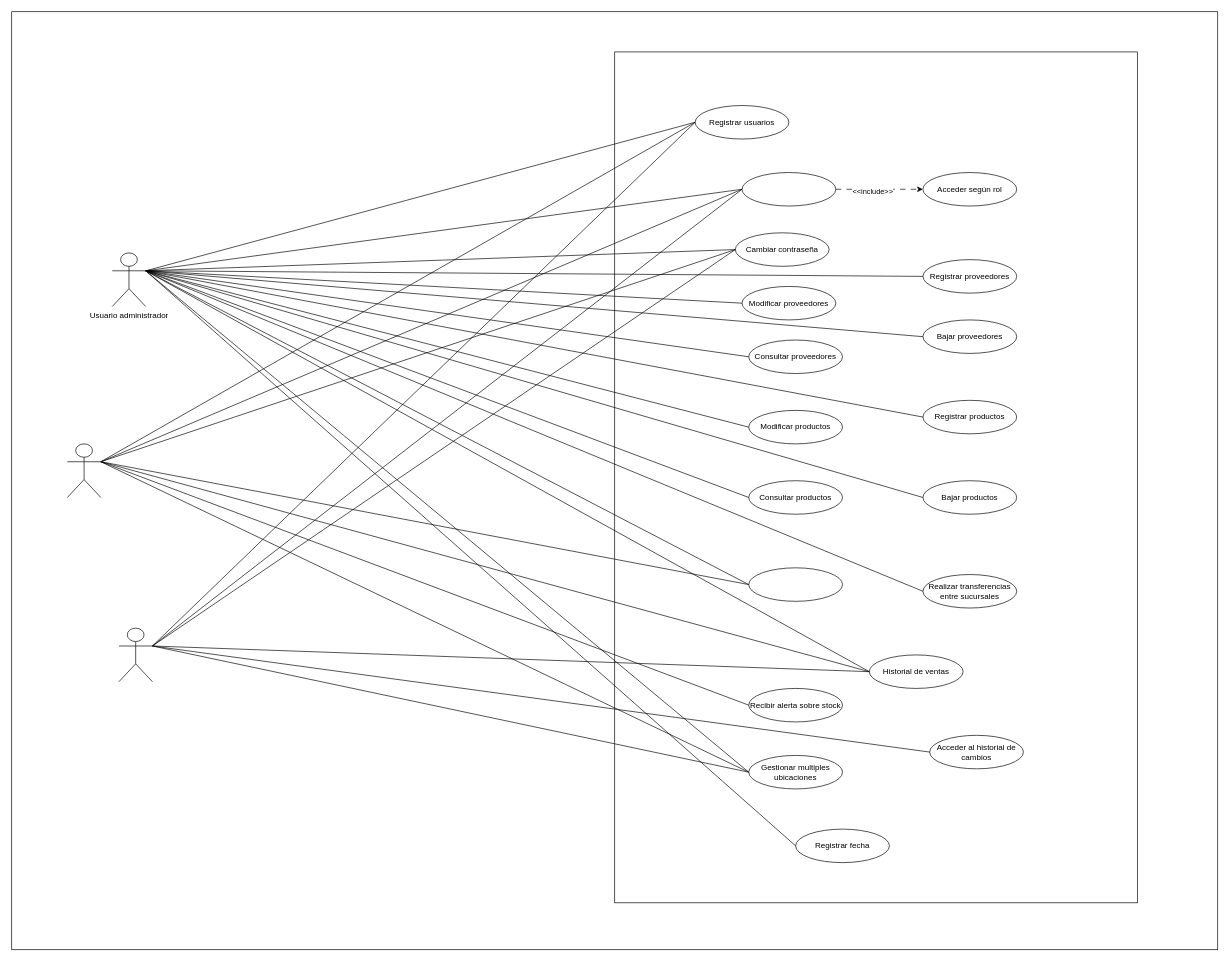
Image size: 1229x961. Some labels were removed from this diagram. Here are the shapes that lost their labels. From the top down, the box of each, then its label:
(741, 172, 836, 206): Iniciar sesión
(67, 443, 101, 497): Gerente de inventario
(748, 567, 843, 601): Visualizar stock disponible
(118, 627, 152, 682): Auditor
